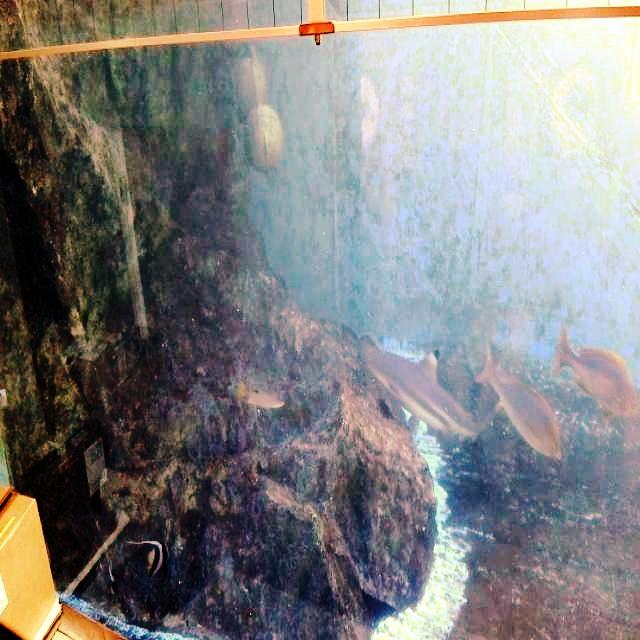angelfish: (123, 524, 174, 586)
gold snapper: (471, 331, 568, 480), (555, 318, 640, 425)
shark: (351, 322, 502, 467)
